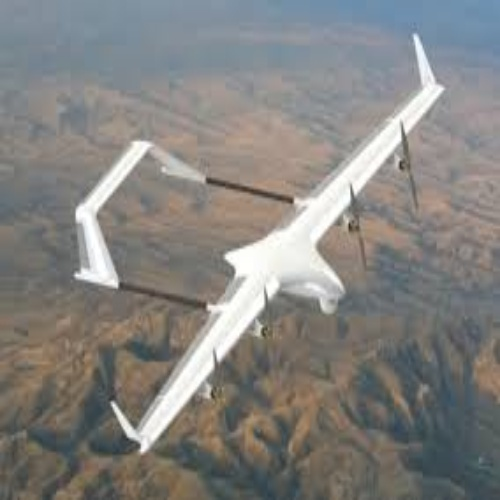uav265: (77, 30, 444, 449)
